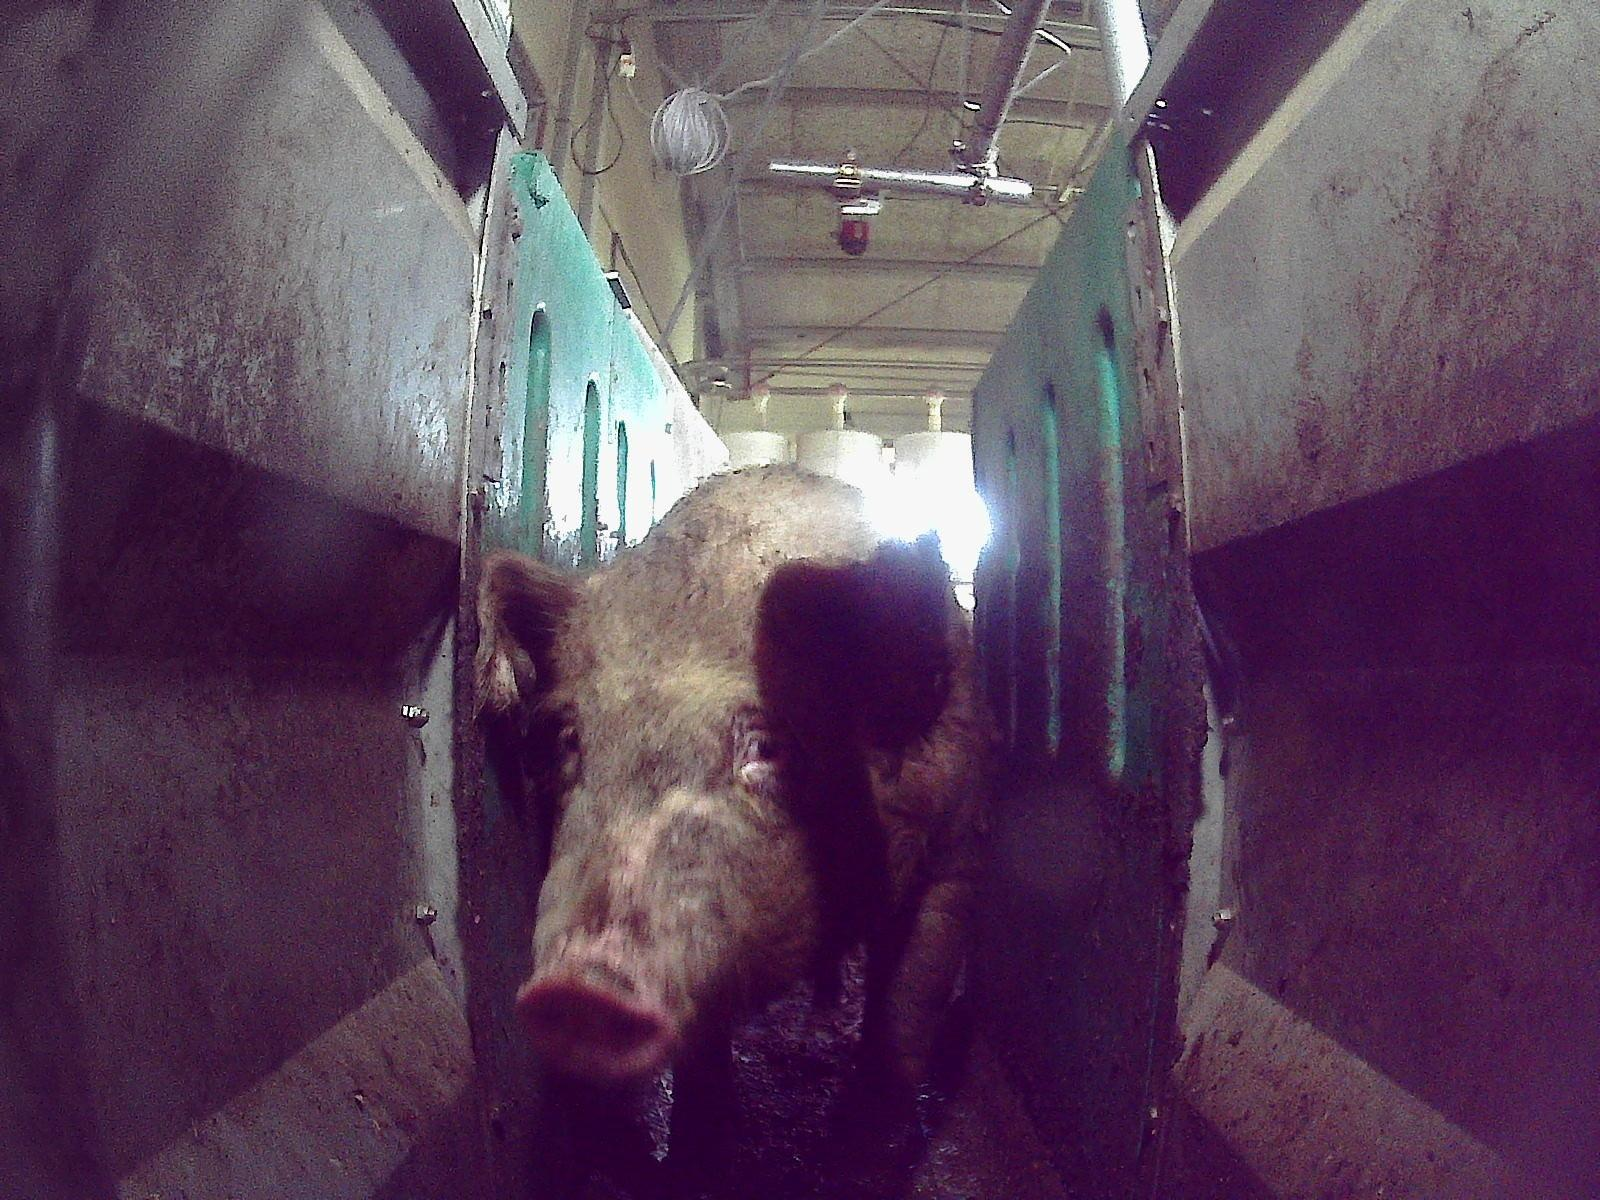Face: (520, 557, 875, 1085)
